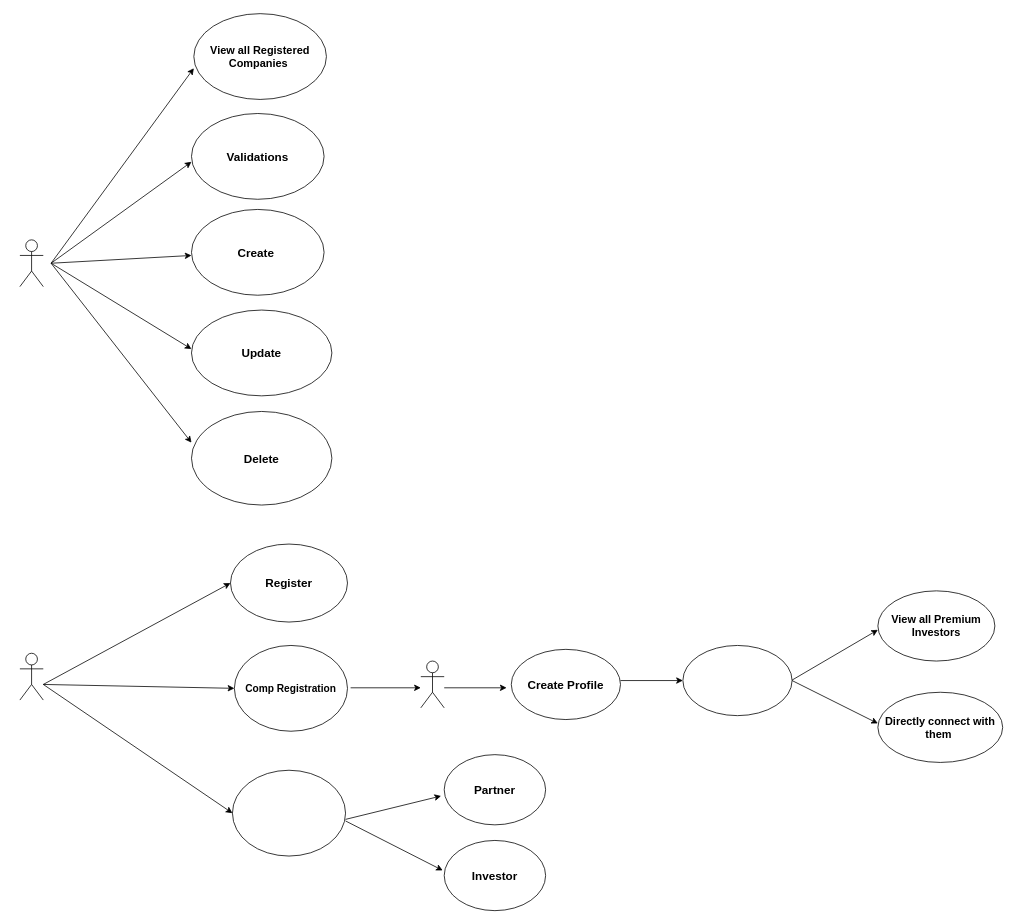
Some shapes in this 1016 by 924 pixel diagram are drawn without their labels. The centre of each missing label's shape, as x and y in pixels:
Admin: point (31, 263)
Buy Premium: point (737, 680)
Connect: point (289, 812)
Owner: point (432, 684)
User: point (31, 676)
